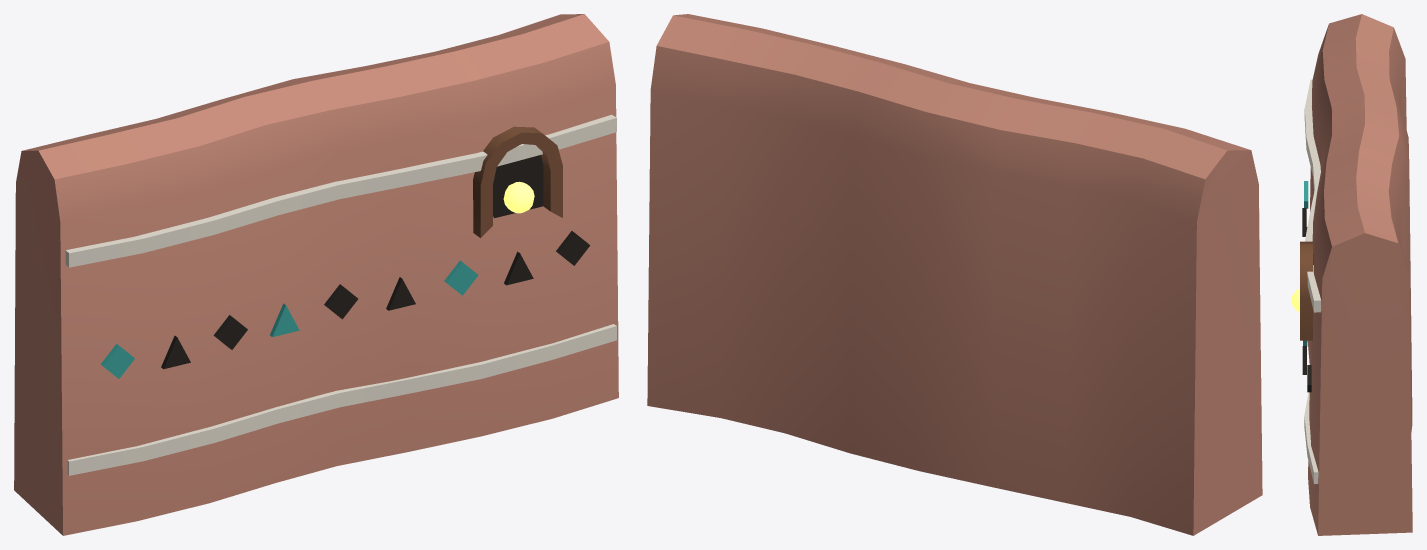
The model's file is deco_clay_wall_glyph.fbx.
3 renders of one model, left to right at view 1: azimuth 30°, elevation 25°; view 2: azimuth 150°, elevation 25°; view 3: azimuth 270°, elevation 25°, orthographic. The views are drawn at different scales.
Visible parts, largest first — view 1: ClayWall_Glyph_Wall, ClayWall_Glyph_Glyphs, ClayWall_Glyph_Niche; view 2: ClayWall_Glyph_Wall; view 3: ClayWall_Glyph_Wall, ClayWall_Glyph_Glyphs, ClayWall_Glyph_Niche.
Boxes of the visible parts, x1,y1,x2,y2 form: ClayWall_Glyph_Wall: (14,14,618,535); ClayWall_Glyph_Glyphs: (65,114,616,475); ClayWall_Glyph_Niche: (473,126,562,237); ClayWall_Glyph_Wall: (647,14,1262,535); ClayWall_Glyph_Wall: (1307,14,1412,535); ClayWall_Glyph_Glyphs: (1302,79,1321,484); ClayWall_Glyph_Niche: (1291,241,1313,340).
Size of the model in its own units: 244 by 153 by 55.86.
